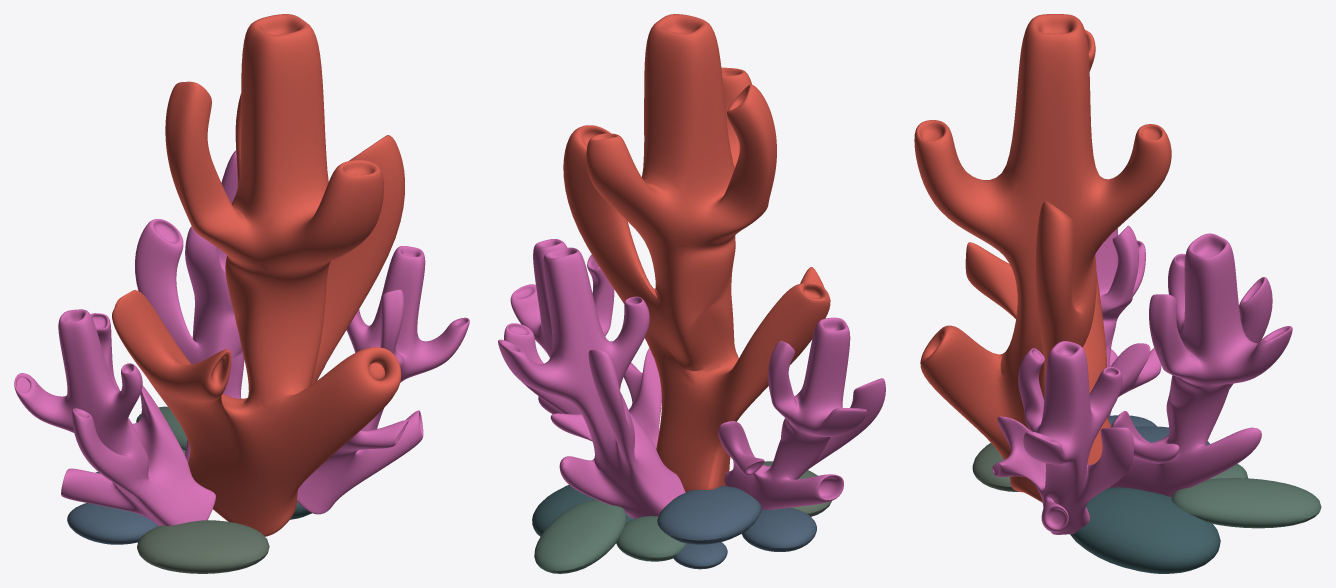
File: coral 1.fbx
3 views of the same model, side by side, from view 1: azimuth 30°, elevation 25°; view 2: azimuth 150°, elevation 25°; view 3: azimuth 270°, elevation 25° (orthographic). The views are drawn at different scales.
Visible parts, largest first — view 1: coral 2; view 2: coral 2; view 3: coral 2.
Boxes of the visible parts, box(x1,y1,x2,y2) form: coral 2: box(14, 14, 469, 573); coral 2: box(498, 14, 885, 573); coral 2: box(914, 14, 1321, 573).
Size of the model in its own units: 1192 by 1438 by 1030.
